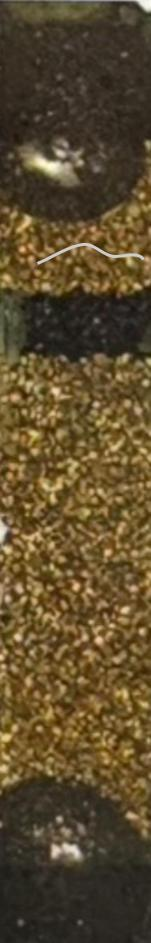blackline: (36, 240, 145, 266)
